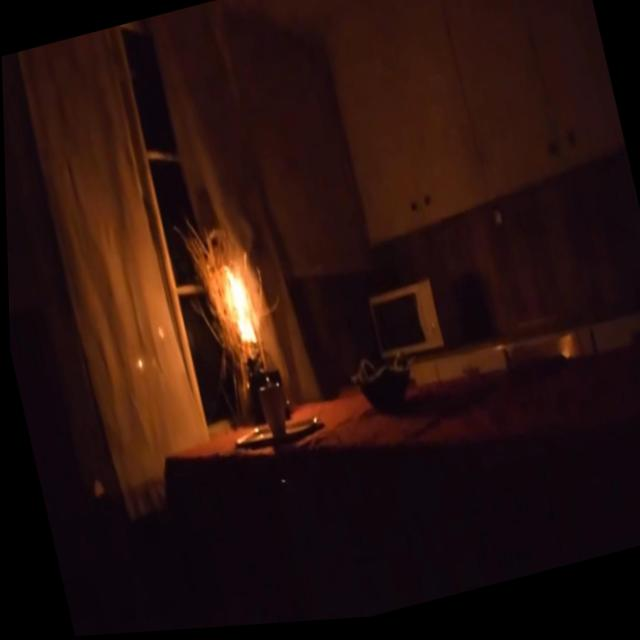fire: (215, 252, 271, 366)
